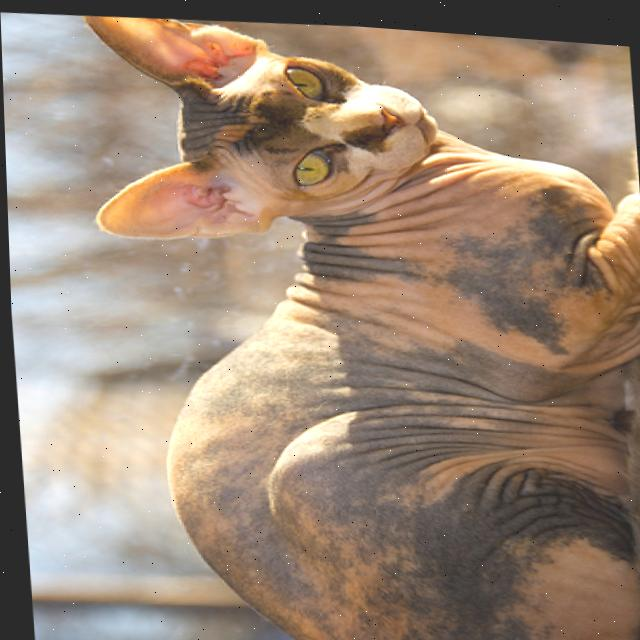Sphynx: (72, 4, 640, 640)
